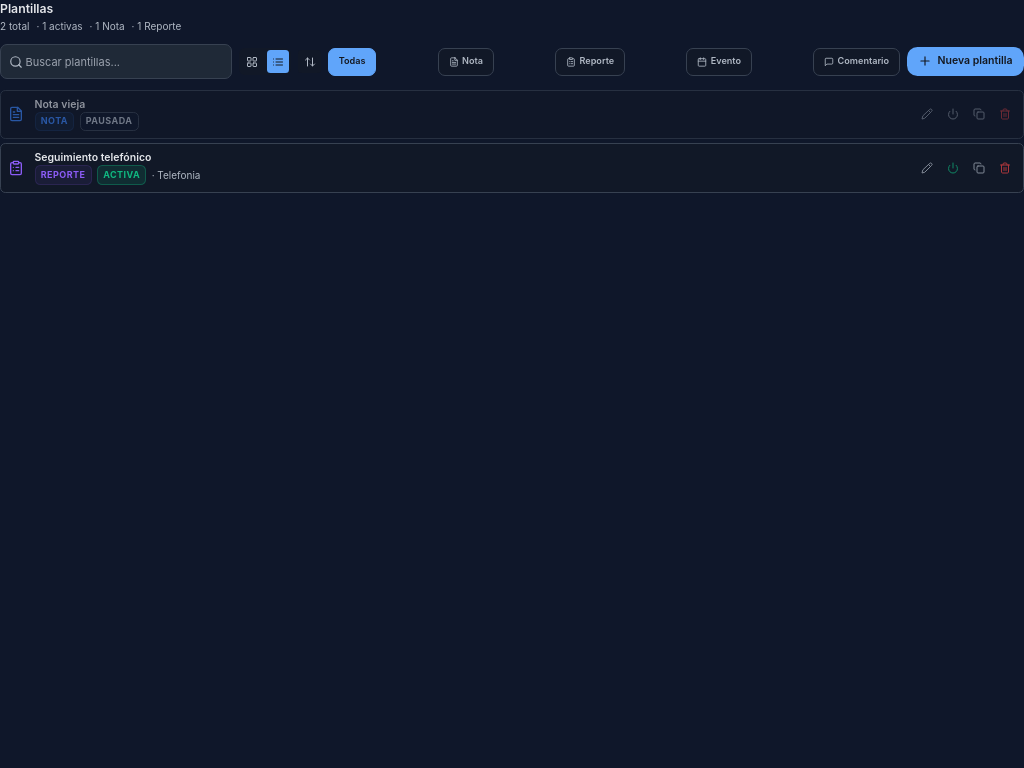
PlantillasView (1.10.1 — rediseño) › clic en una plantilla abre la vista previa con variables resueltas
What coordinates should you click on to do the following:
click the text "Seguimiento telefónico"
I would click on:
 (93, 157)
Its box is [34,151,151,164].
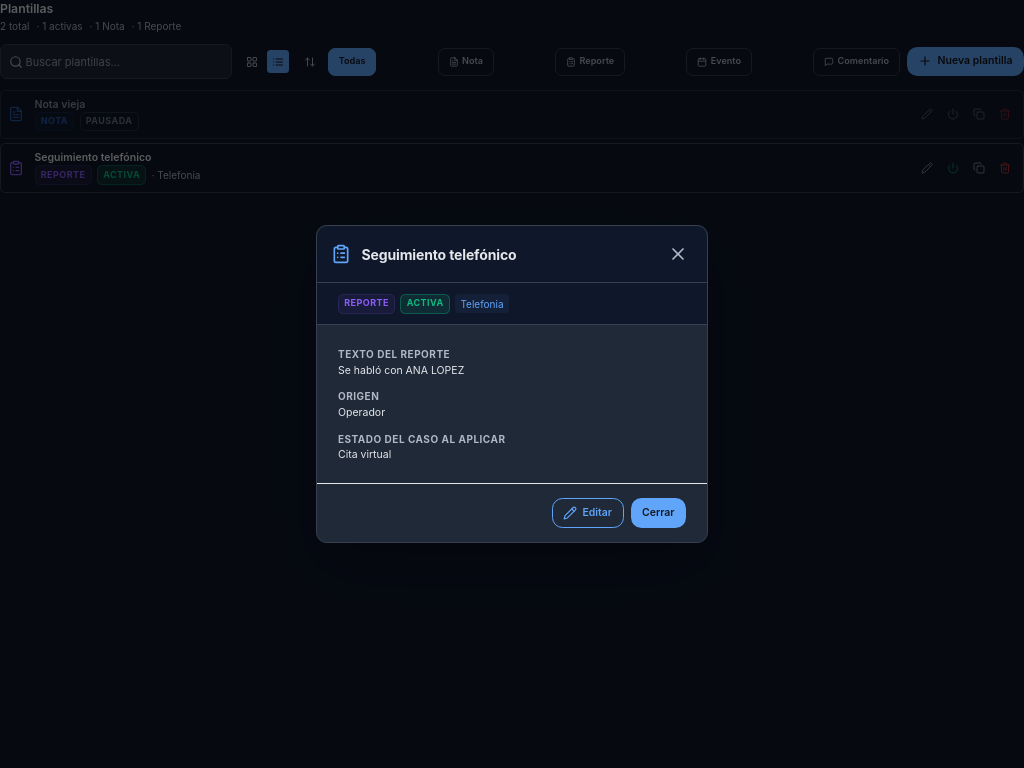
Now the text "Se habló con ANA LOPEZ" is shown, box [338,364,464,377]
Now the text "Cita virtual" is shown, box [338,448,391,461]
Now the button "Editar" is shown, box [552,498,624,528]
